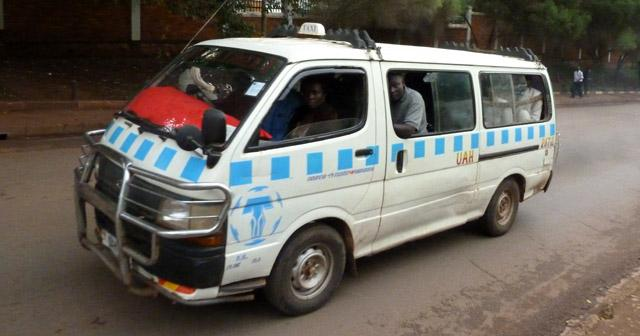van: (71, 20, 556, 316)
